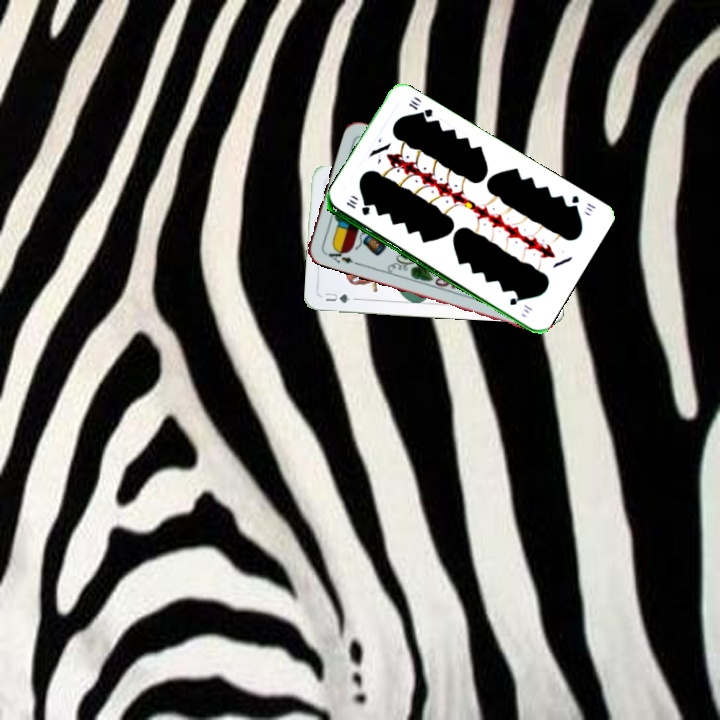EA: (320, 243, 356, 266)
G10: (564, 191, 598, 214), (342, 195, 372, 218)
GU: (321, 289, 359, 305)
